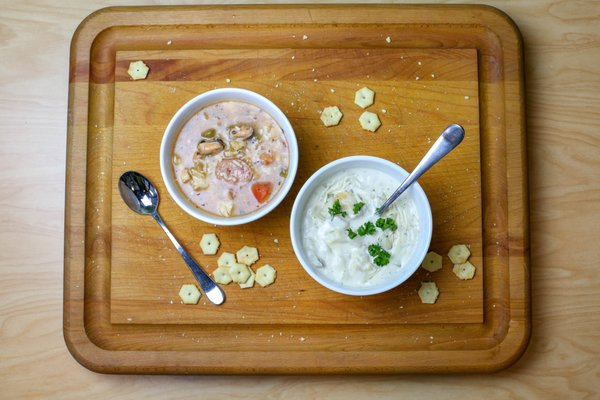salad: (117, 170, 227, 306), (377, 122, 465, 216)
sushi: (290, 155, 432, 296), (159, 87, 300, 226)
